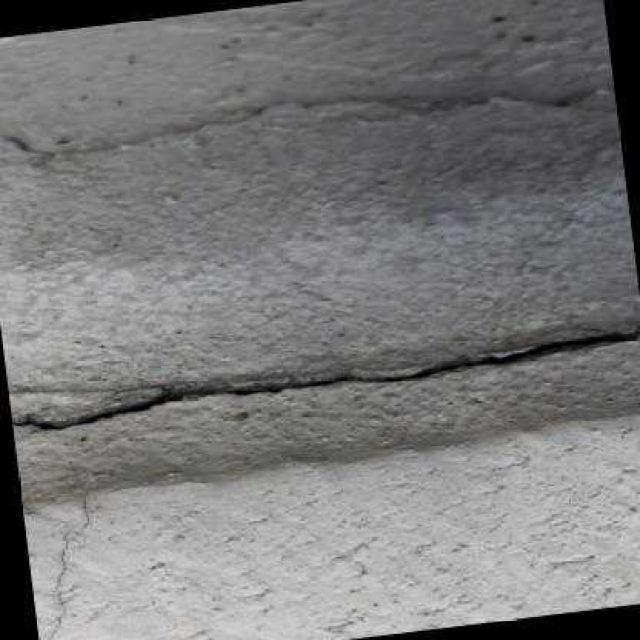D00: (9, 327, 640, 433)
